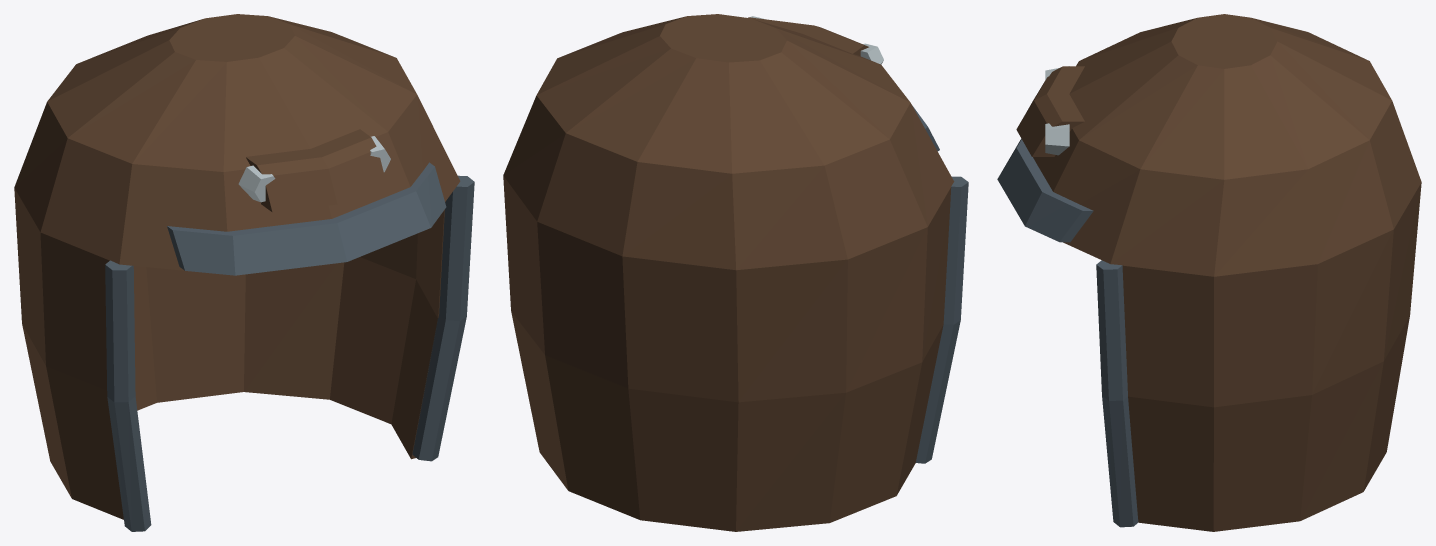
File: studded_head-female-thickHide.glb
3 views of the same model, side by side, from view 1: azimuth 30°, elevation 25°; view 2: azimuth 150°, elevation 25°; view 3: azimuth 270°, elevation 25° (orthographic). The views are drawn at different scales.
Visible parts, largest first — view 1: studded joined crown and nape guard, Fitted brow binding, Bound face opening 1, Bound face opening -1, Heavy hide binding studded joined crown and nape guard, Set rivet studded joined crown and nape guard -1; view 2: studded joined crown and nape guard, Bound face opening -1, Heavy hide binding studded joined crown and nape guard; view 3: studded joined crown and nape guard, Bound face opening 1, Fitted brow binding, Heavy hide binding studded joined crown and nape guard, Set rivet studded joined crown and nape guard 1.
Boxes of the visible parts, x1,y1,x2,y2 form: studded joined crown and nape guard: (14,14,460,519); Fitted brow binding: (167,162,446,275); Bound face opening 1: (412,175,474,461); Bound face opening -1: (105,260,151,531); Heavy hide binding studded joined crown and nape guard: (246,129,386,212); Set rivet studded joined crown and nape guard -1: (238,165,275,202); studded joined crown and nape guard: (503,14,954,531); Bound face opening -1: (915,176,968,463); Heavy hide binding studded joined crown and nape guard: (748,17,868,56); studded joined crown and nape guard: (1033,14,1421,531); Bound face opening 1: (1096,260,1138,527); Fitted brow binding: (997,138,1093,242); Heavy hide binding studded joined crown and nape guard: (1016,66,1084,156); Set rivet studded joined crown and nape guard 1: (1045,123,1069,155).
Size of the model in its own units: 1.06 by 1.08 by 1.
